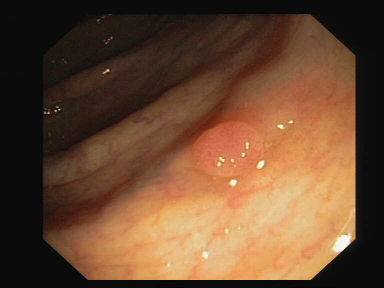polyp: (184, 112, 284, 188)
